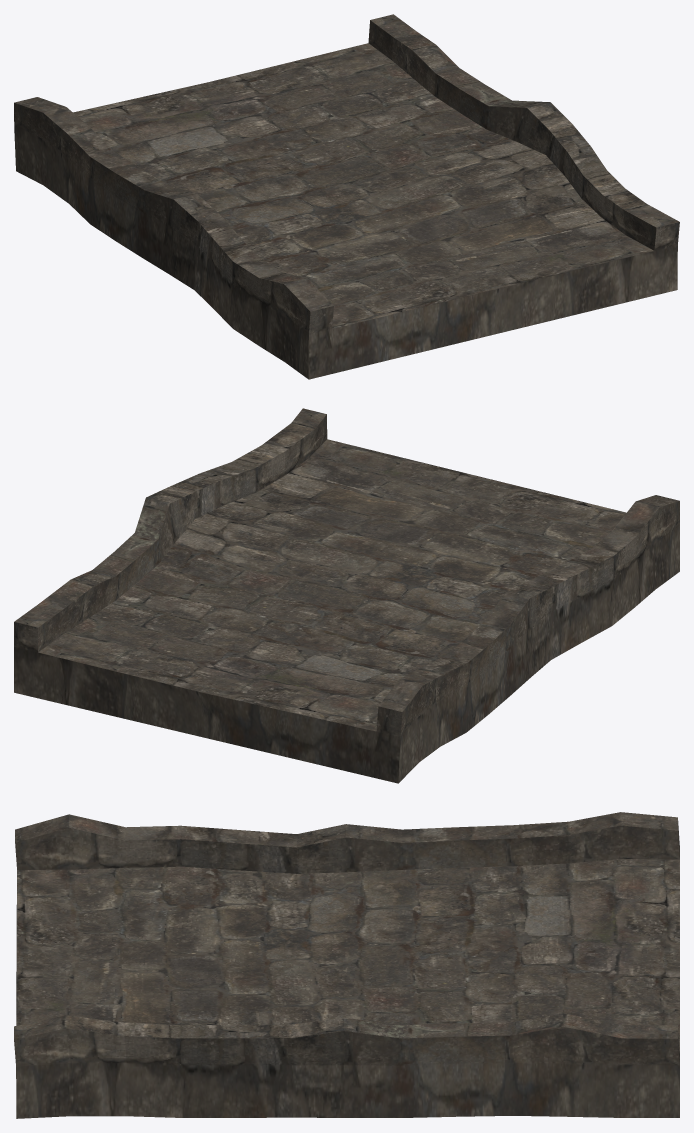
File: Road_Stone.fbx
The picture shows the model from 3 angles, top to bottom: view 1: azimuth 30°, elevation 25°; view 2: azimuth 150°, elevation 25°; view 3: azimuth 270°, elevation 25°; orthographic projection. The views are drawn at different scales.
Visible parts, largest first — view 1: Road_Tile_Rock_Black; view 2: Road_Tile_Rock_Black; view 3: Road_Tile_Rock_Black.
Part boxes in pixels (x1,y1,x2,y2): Road_Tile_Rock_Black: [14, 14, 679, 379]; Road_Tile_Rock_Black: [14, 408, 679, 783]; Road_Tile_Rock_Black: [14, 812, 679, 1118].
Size of the model in its own units: 422 by 83.76 by 529.
1 material, 1 textured.
